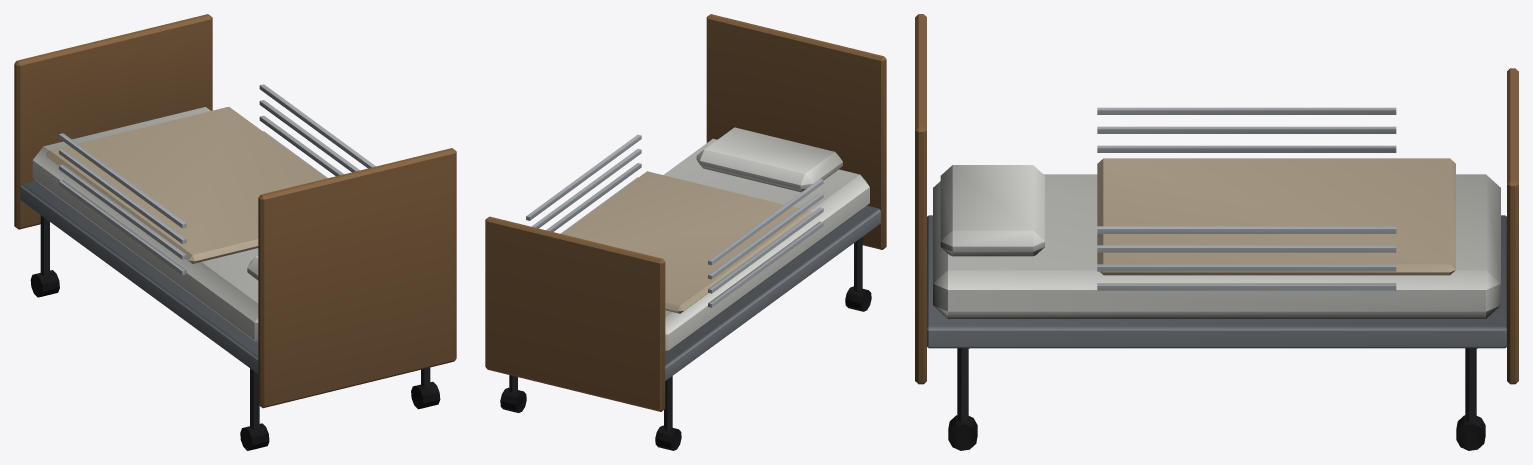
The model's file is prop.int.hospital_bed.glb.
3 renders of one model, left to right at view 1: azimuth 30°, elevation 25°; view 2: azimuth 150°, elevation 25°; view 3: azimuth 270°, elevation 25°, orthographic. The views are drawn at different scales.
Parts seen in each view (by area): view 1: LOD0; view 2: LOD0; view 3: LOD0.
Boxes of the visible parts, left/top/right/bottom form: LOD0: left=14, top=14, right=456, bottom=450; LOD0: left=485, top=14, right=886, bottom=450; LOD0: left=915, top=14, right=1518, bottom=450.
Size of what is drawn, in the model's own units: 0.96 by 1.2 by 2.02.
